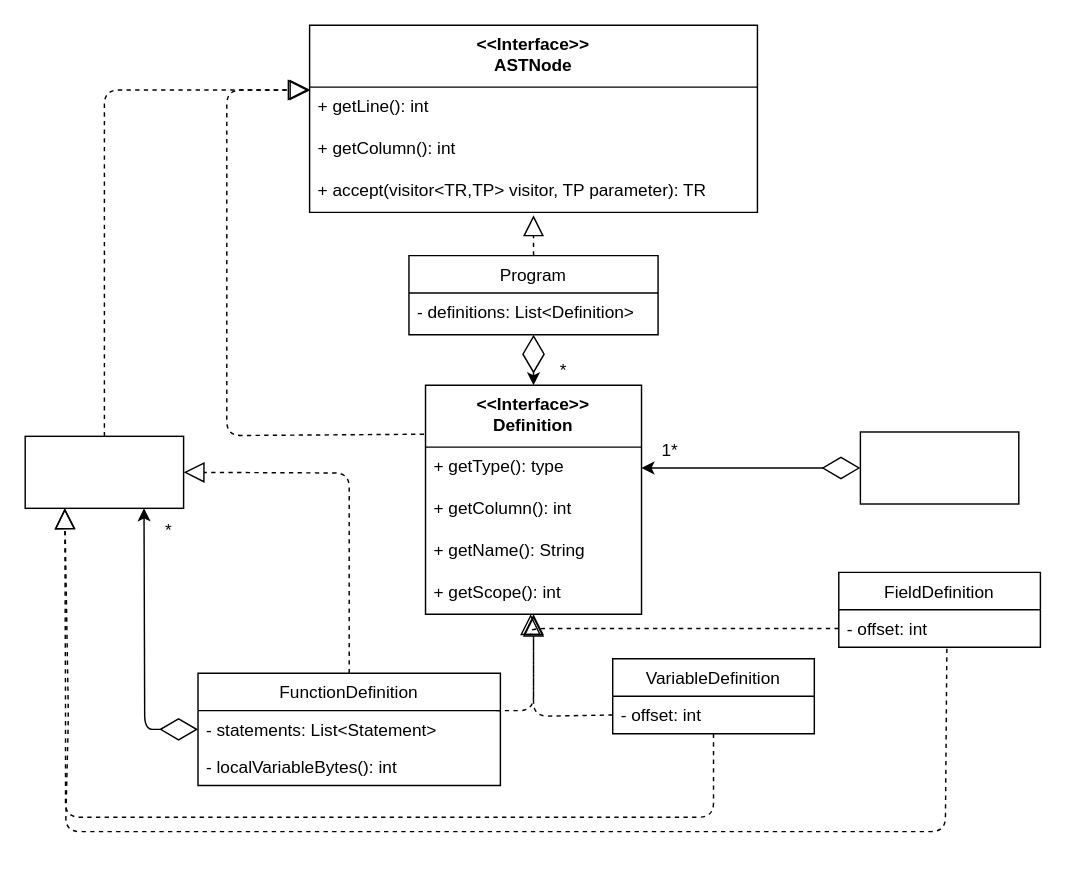
The diagram is 1066 pixels wide and 877 high, and some of its shapes have lost their labels. The centre of each missing label's shape, as x and y in pixels:
"«interface» Statement" belongs at (104,471).
"«interface» Type" belongs at (939,467).
